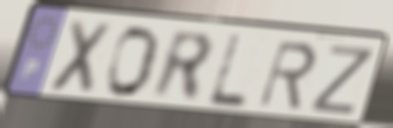L: (204, 32, 250, 111)
O: (103, 24, 164, 101)
R: (150, 27, 217, 105), (255, 39, 319, 112)
X: (44, 17, 117, 99)
Z: (307, 43, 379, 118)
